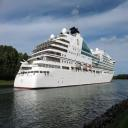cruises: (13, 26, 117, 91)
